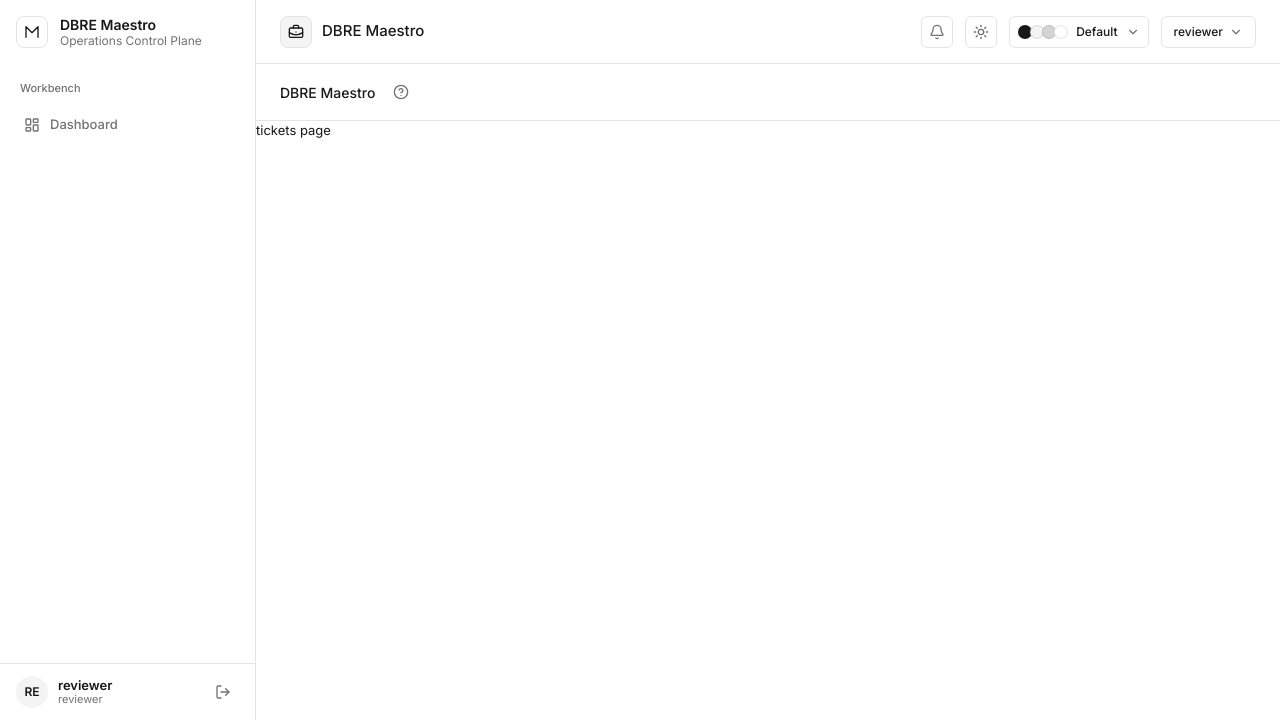
AppShell notifications › 可切換顯示模式並持久化選擇
The width and height of the screenshot is (1280, 720).
Click the button named "Theme: System".
click(981, 32)  # box [965,16,997,48]
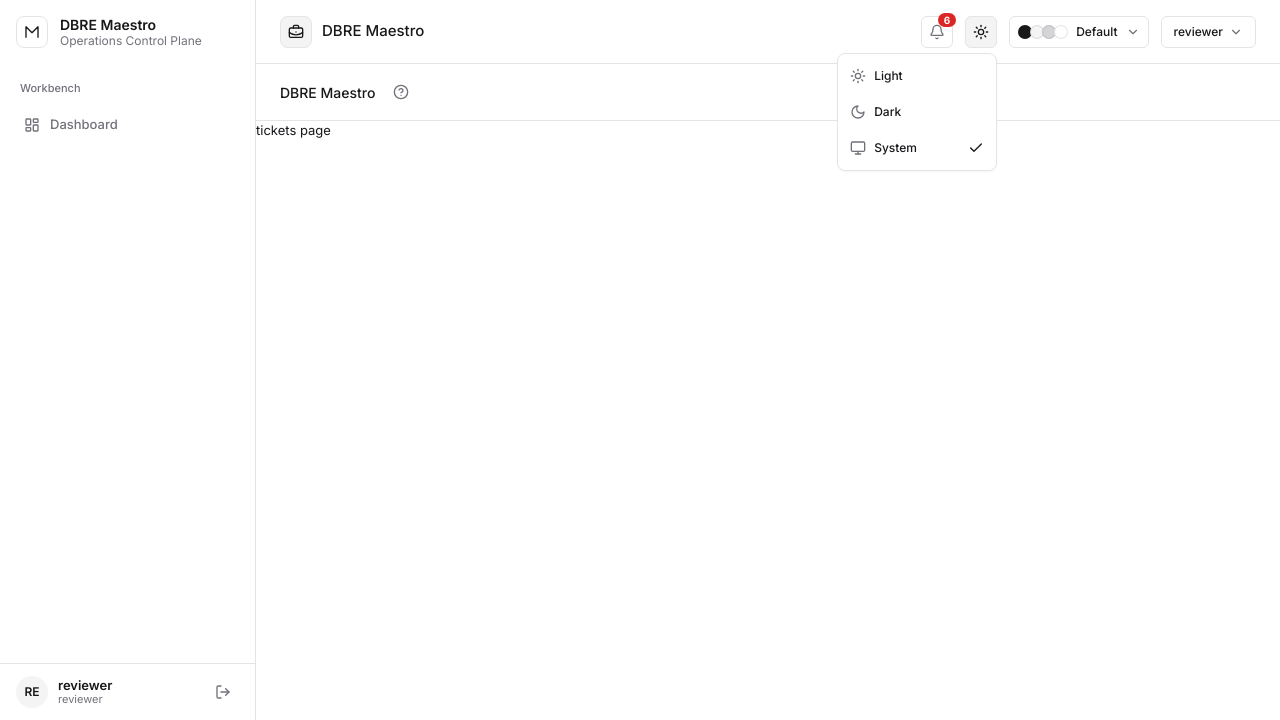
Click the button with aria-label "Dark theme".
click(917, 112)  # box [842,94,992,130]
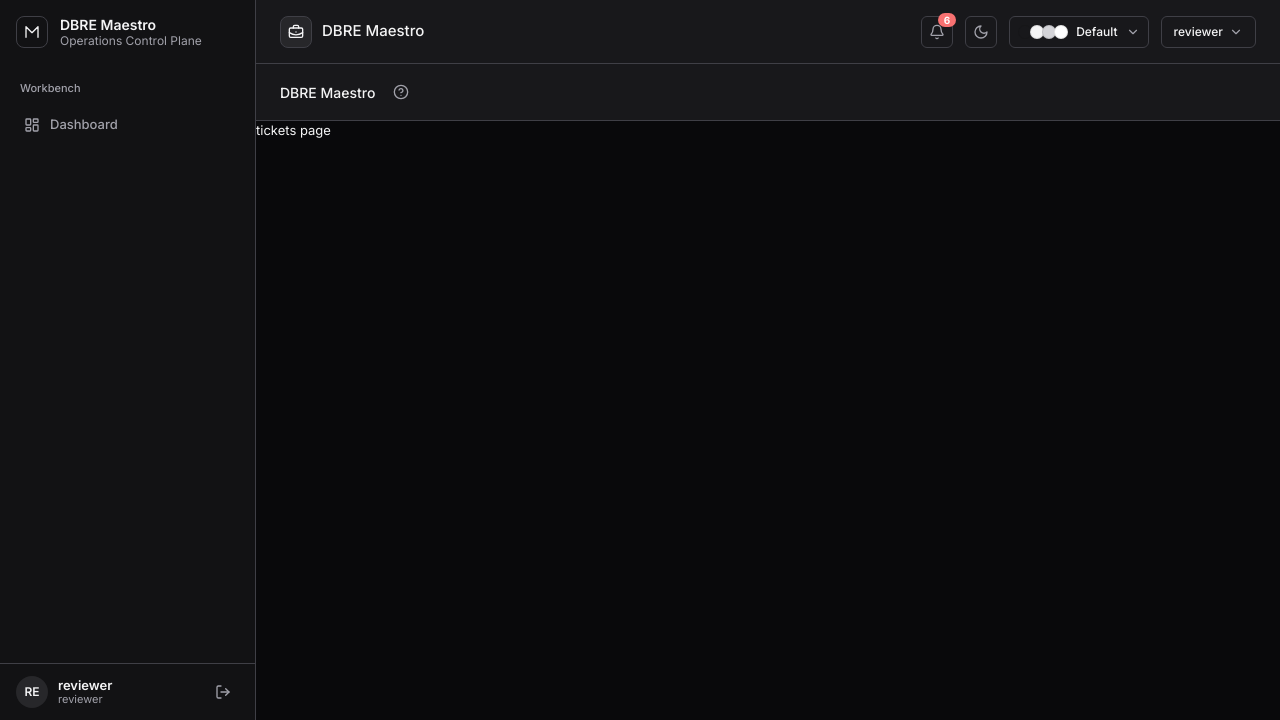
Expected: the button named "Theme: Dark" is shown, [965,16,997,48]
